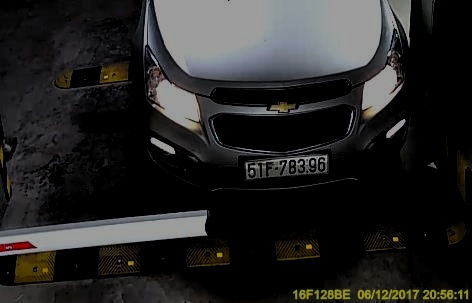plate: (240, 153, 330, 179)
